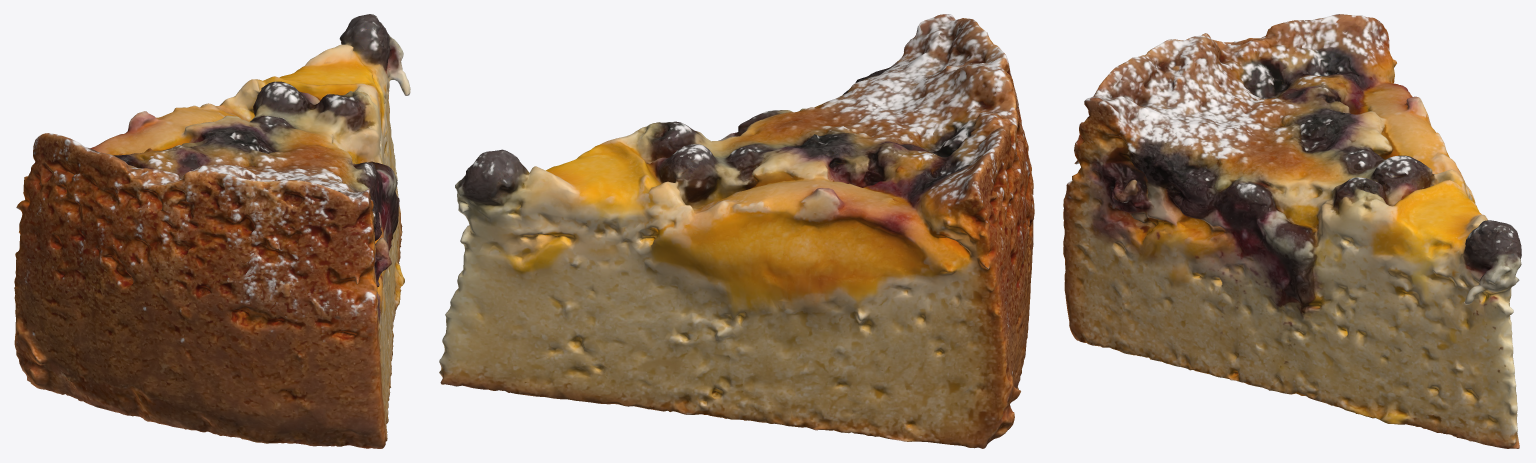
Rendered from FruitCakeSlice.gltf.
3 views of the same model, side by side, from view 1: azimuth 30°, elevation 25°; view 2: azimuth 150°, elevation 25°; view 3: azimuth 270°, elevation 25° (orthographic). The views are drawn at different scales.
Visible parts, largest first — view 1: FruitCakeSlice; view 2: FruitCakeSlice; view 3: FruitCakeSlice.
Part boxes in pixels (<box>): FruitCakeSlice: <box>14,14,410,448</box>; FruitCakeSlice: <box>439,14,1034,448</box>; FruitCakeSlice: <box>1063,14,1521,448</box>.
Size of the model in its own units: 2273 by 1255 by 2054.
Materials: 1 (1 with a texture image).
